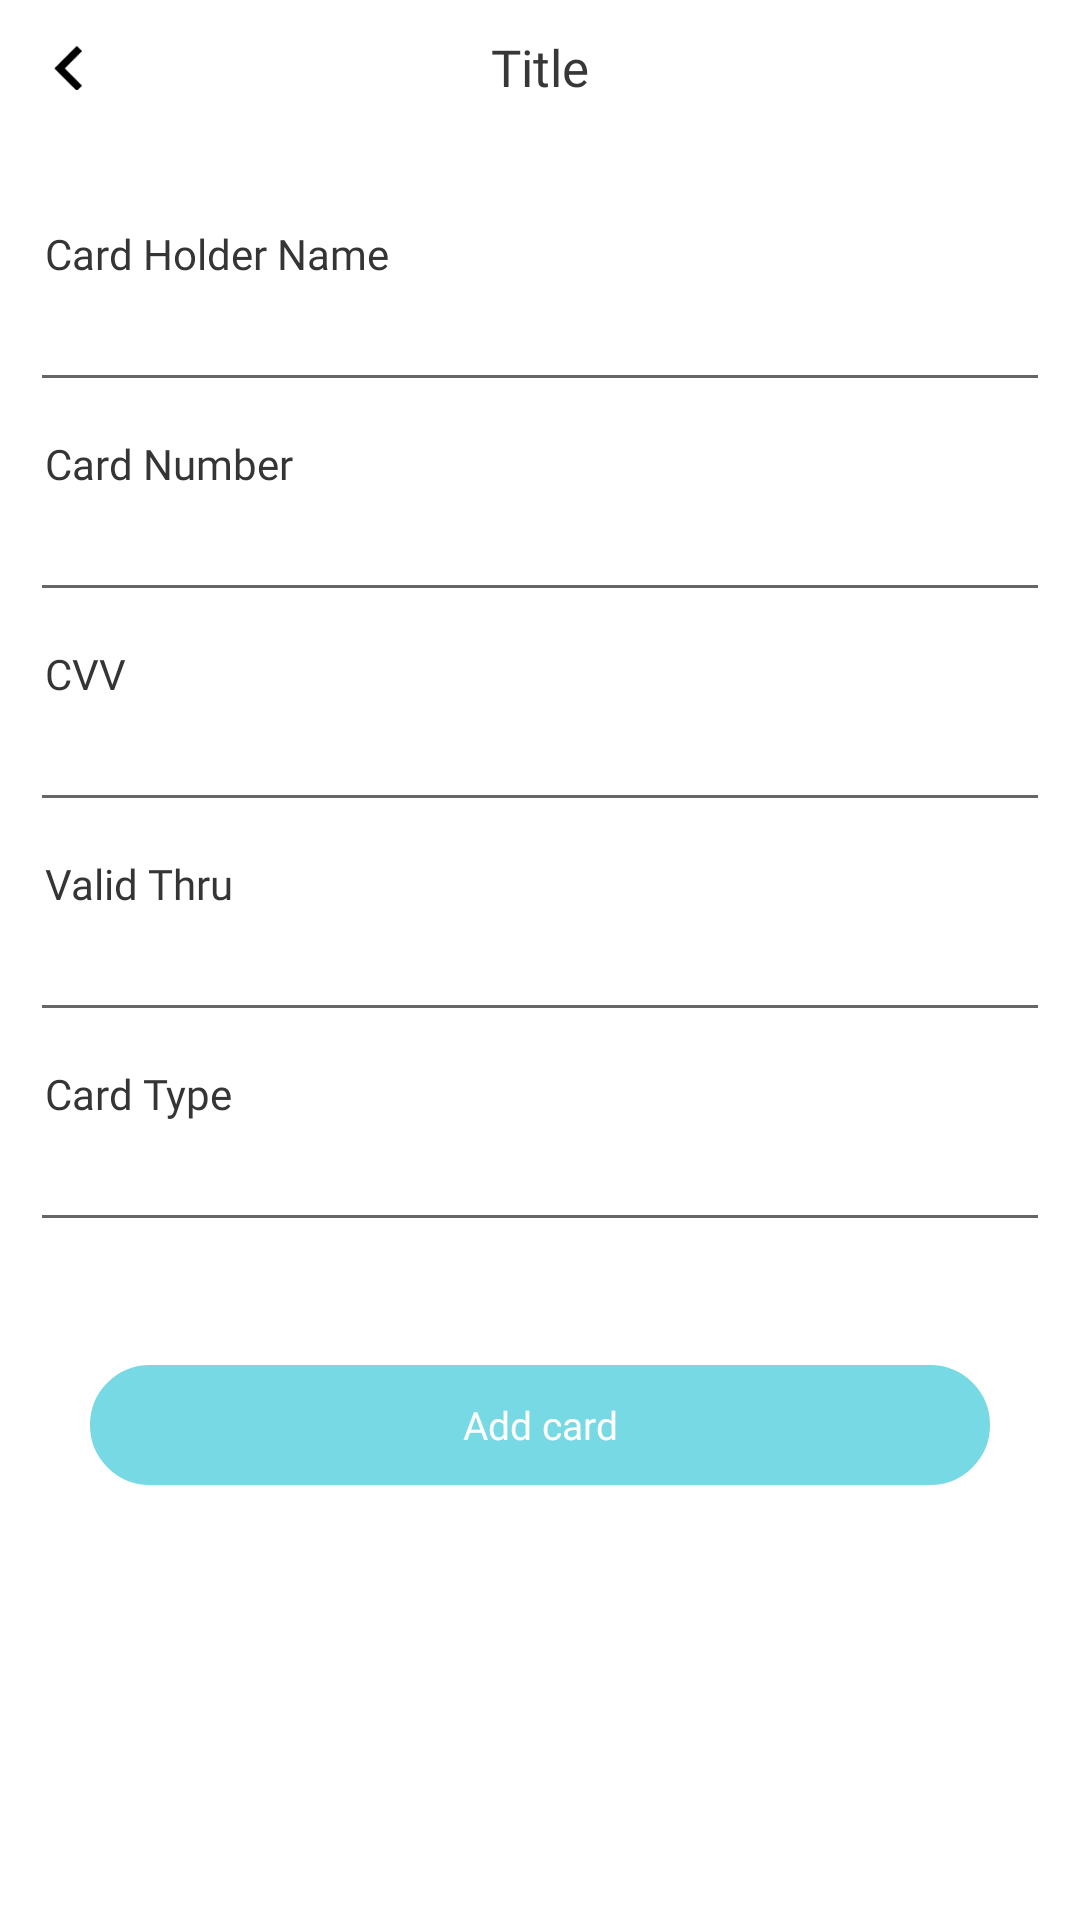

Named icons in this screenshot (1080 × 1920) and their centers, (x=x, y=y):
left arrow: (x=68, y=68)
